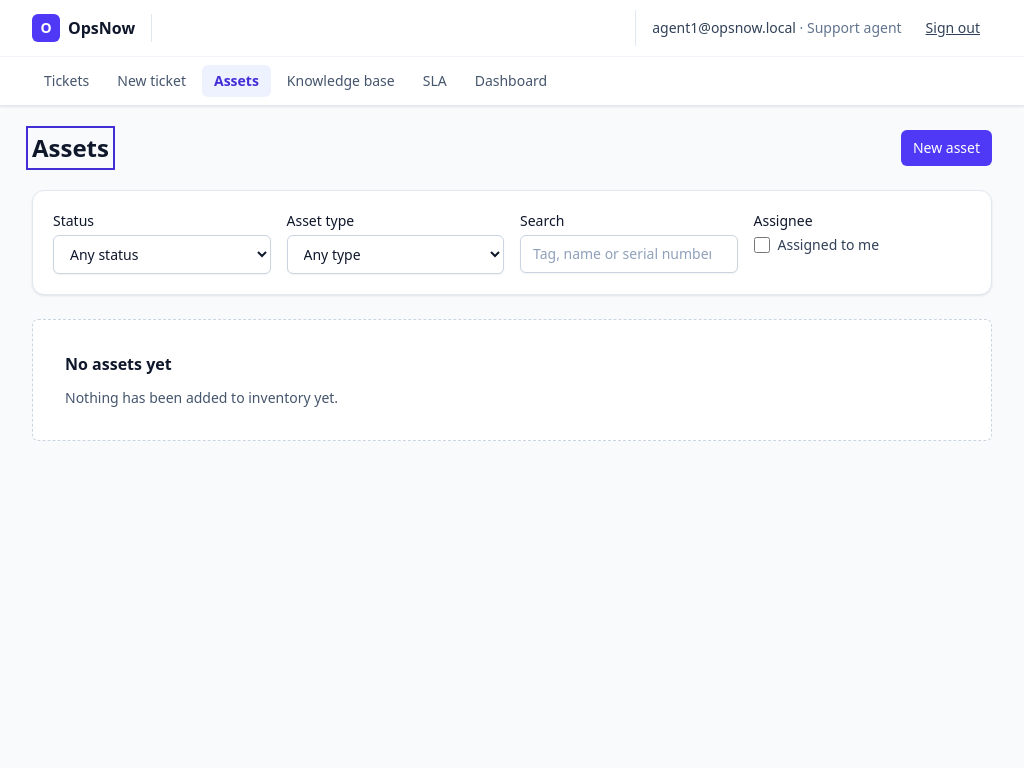
asset list — states › distinguishes "nothing yet" from "no matches" — staff copy
The width and height of the screenshot is (1024, 768).
Expected: the heading "Assets" is shown, x1=32 y1=132 x2=109 y2=164
Expected: the text "No assets yet" is shown, x1=65 y1=352 x2=172 y2=376
Step 1. Select "Retired" in the dropdown labelled "Status" → (162, 254), box x1=53 y1=235 x2=270 y2=274
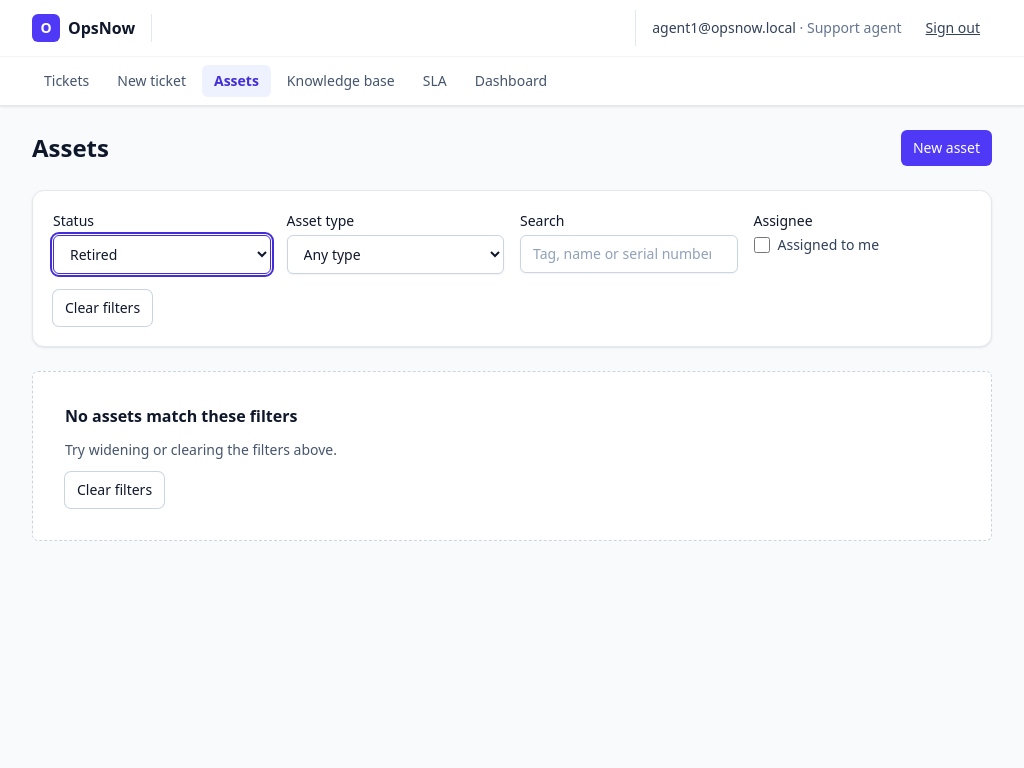
Expected: the text "No assets match these filters" is shown, x1=65 y1=404 x2=297 y2=428
